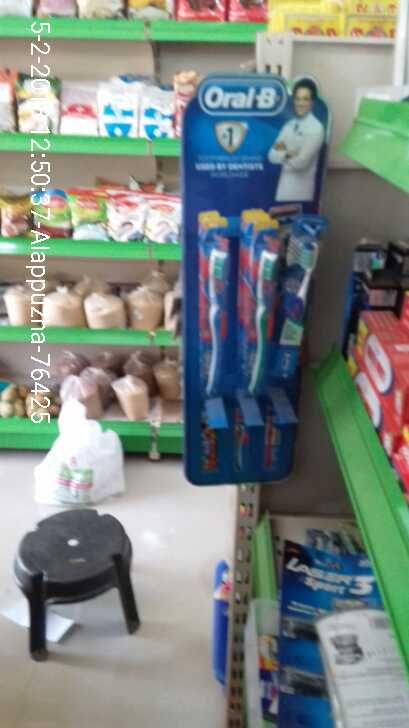oralb: (285, 219, 323, 392), (251, 223, 277, 393), (210, 230, 230, 396)
